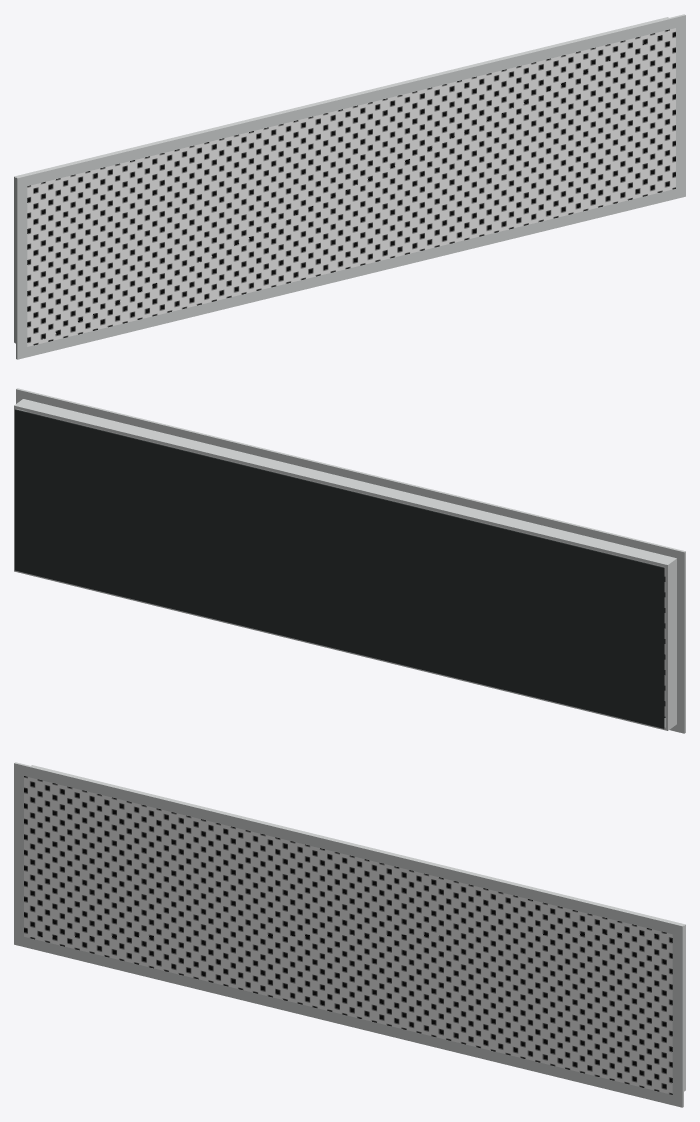
File: ecoclima-ega-one-egafq-one-3.glb
3 views of the same model, one above another, from view 1: azimuth 30°, elevation 25°; view 2: azimuth 150°, elevation 25°; view 3: azimuth 330°, elevation 25° (orthographic).
Visible parts, largest first — view 1: Profile_lamiera_forata.003, Profile_cornice.117, Profile_cornice.118, Profile_cornice.119, Profile_cornice.120, Profile_ritorno.128; view 2: Interno.034, Profile_ritorno.128, Profile_cornice.117, Profile_ritorno.130, Profile_cornice.119, Profile_ritorno.129, Profile_lamiera_forata.003; view 3: Profile_lamiera_forata.003, Profile_cornice.117, Profile_cornice.118, Profile_cornice.120, Profile_cornice.119, Profile_ritorno.128.
Part boxes in pixels (bbox=[...]): Profile_lamiera_forata.003: bbox=[27, 28, 675, 346]; Profile_cornice.117: bbox=[16, 14, 685, 188]; Profile_cornice.118: bbox=[16, 186, 685, 359]; Profile_cornice.119: bbox=[16, 186, 27, 349]; Profile_cornice.120: bbox=[676, 25, 685, 188]; Profile_ritorno.128: bbox=[14, 17, 668, 180]; Interno.034: bbox=[15, 409, 664, 728]; Profile_ritorno.128: bbox=[14, 399, 676, 567]; Profile_cornice.117: bbox=[16, 388, 685, 562]; Profile_ritorno.130: bbox=[665, 561, 676, 728]; Profile_cornice.119: bbox=[677, 561, 685, 723]; Profile_ritorno.129: bbox=[14, 569, 676, 730]; Profile_lamiera_forata.003: bbox=[26, 411, 665, 717]; Profile_lamiera_forata.003: bbox=[24, 776, 672, 1094]; Profile_cornice.117: bbox=[14, 762, 683, 936]; Profile_cornice.118: bbox=[14, 934, 683, 1107]; Profile_cornice.120: bbox=[672, 934, 683, 1097]; Profile_cornice.119: bbox=[14, 773, 23, 936]; Profile_ritorno.128: bbox=[31, 765, 685, 928].
Size of the model in its own units: 0.54 by 0.14 by 0.017.
Materials: 3 (1 with a texture image).
